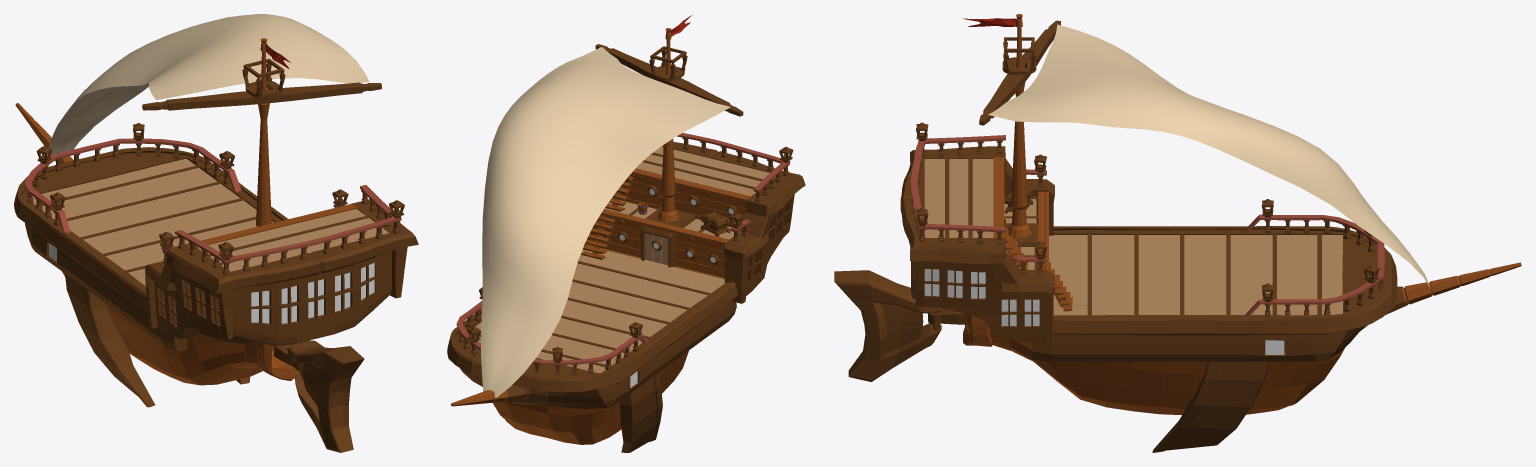
File: Ultitest_01.fbx
3 renders of one model, left to right at view 1: azimuth 30°, elevation 25°; view 2: azimuth 150°, elevation 25°; view 3: azimuth 270°, elevation 25°, orthographic. The views are drawn at different scales.
Visible parts, largest first — view 1: Bauch; view 2: Bauch; view 3: Bauch, oi.
Boxes of the visible parts, x1,y1,x2,y2 form: Bauch: (14, 14, 418, 452); Bauch: (447, 14, 805, 452); Bauch: (834, 14, 1521, 452); oi: (924, 269, 1284, 354).
Size of the model in its own units: 3905 by 6982 by 10549.
